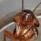cockroach: (14, 8, 39, 40)
